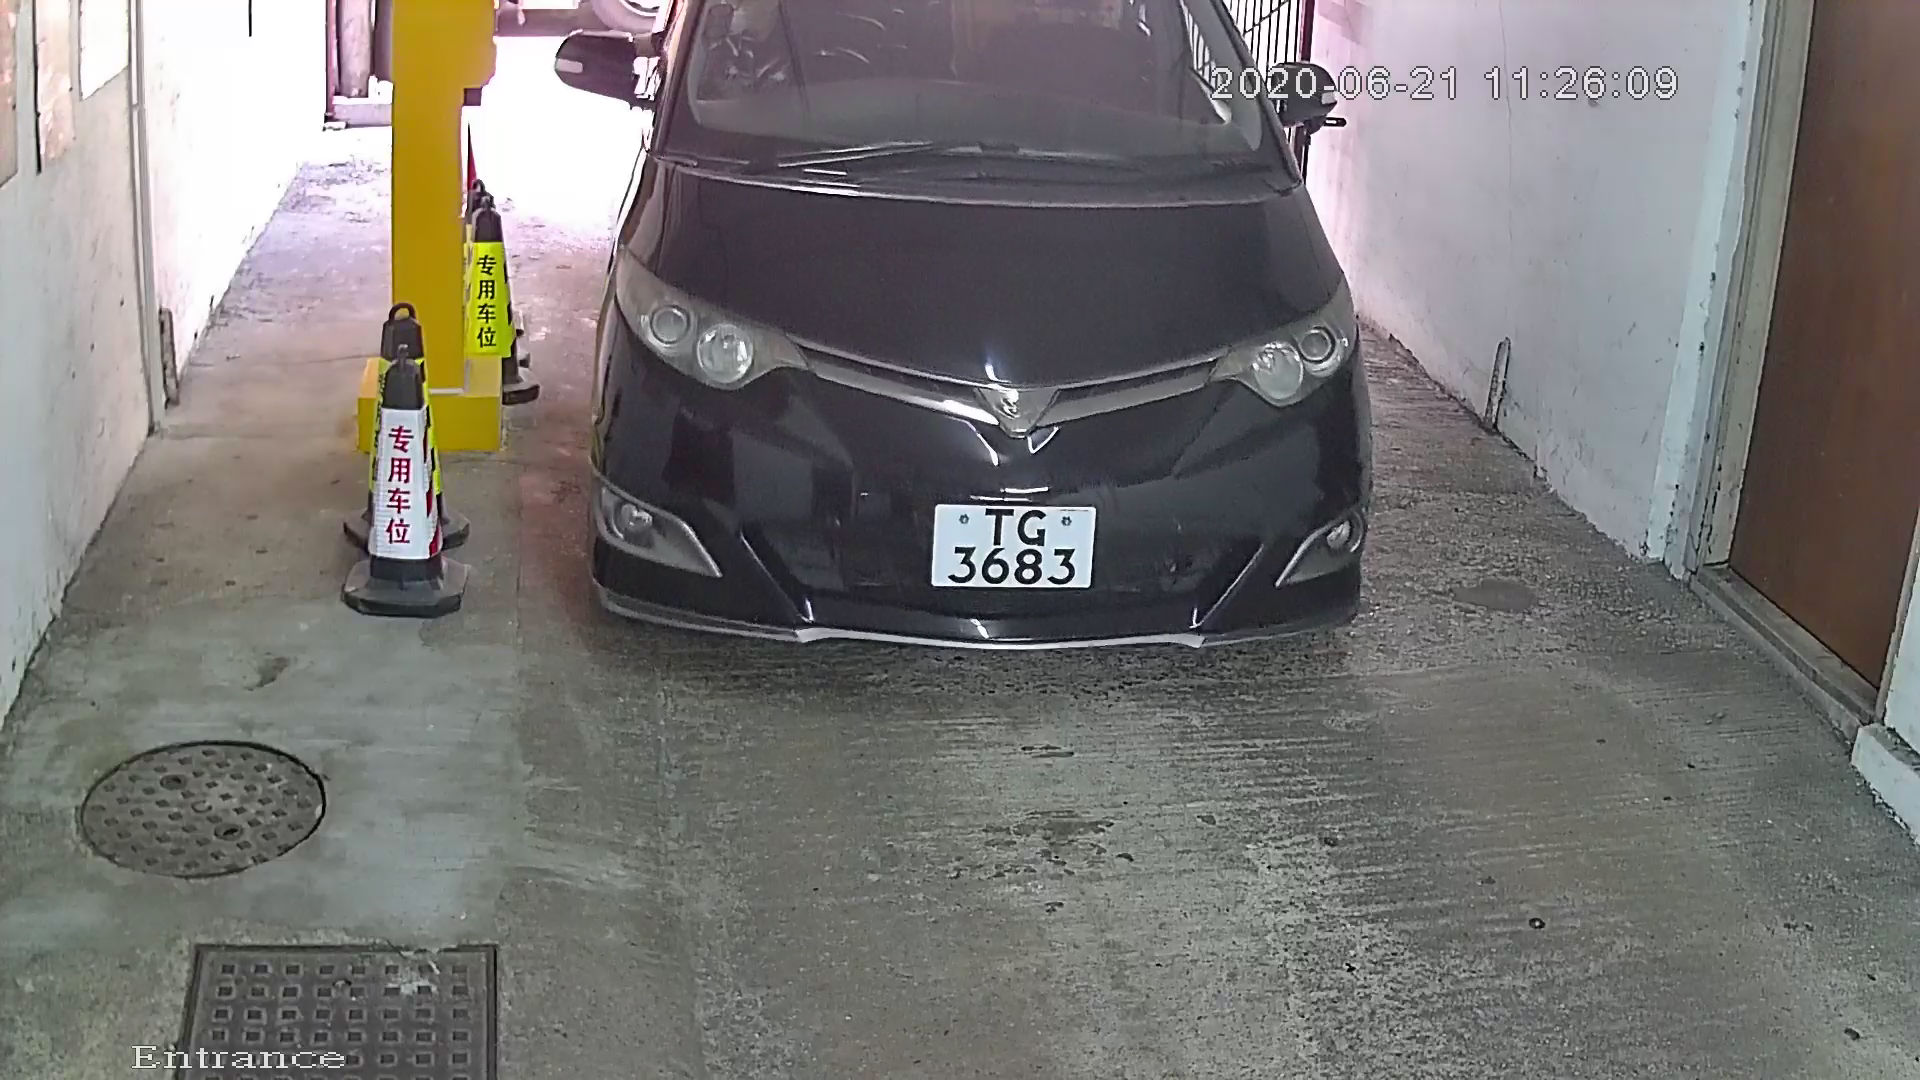privatecar: (534, 1, 1394, 742)
